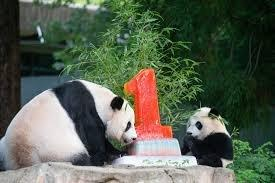bear: (0, 80, 138, 171), (183, 107, 234, 170)
